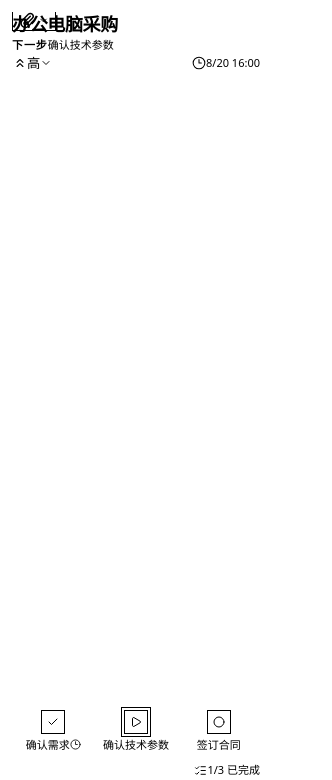
Scenario: P9 核心界面控件 › 已完成节点保留历史时间，但需要恢复后才能设置提醒
Check: the icon named "已设置提醒时间" is shown, box 70,739 -> 81,750
Click the button with aria-label "确认需求，已完成，已设置提醒时间". click: click(53, 731)
box: 12,710 -> 95,752
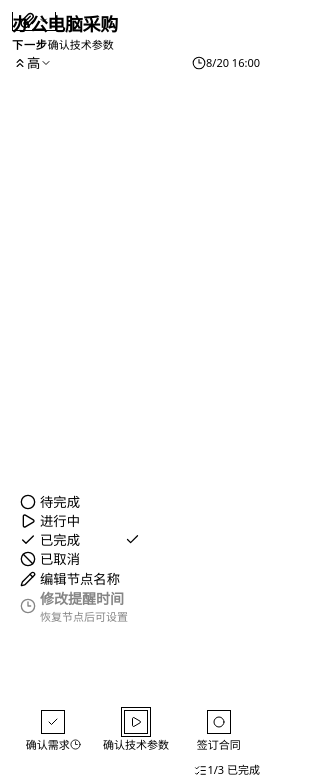
Check: the menu item "修改提醒时间 恢复节点后可设置" is disabled, box 20,588 -> 140,624
